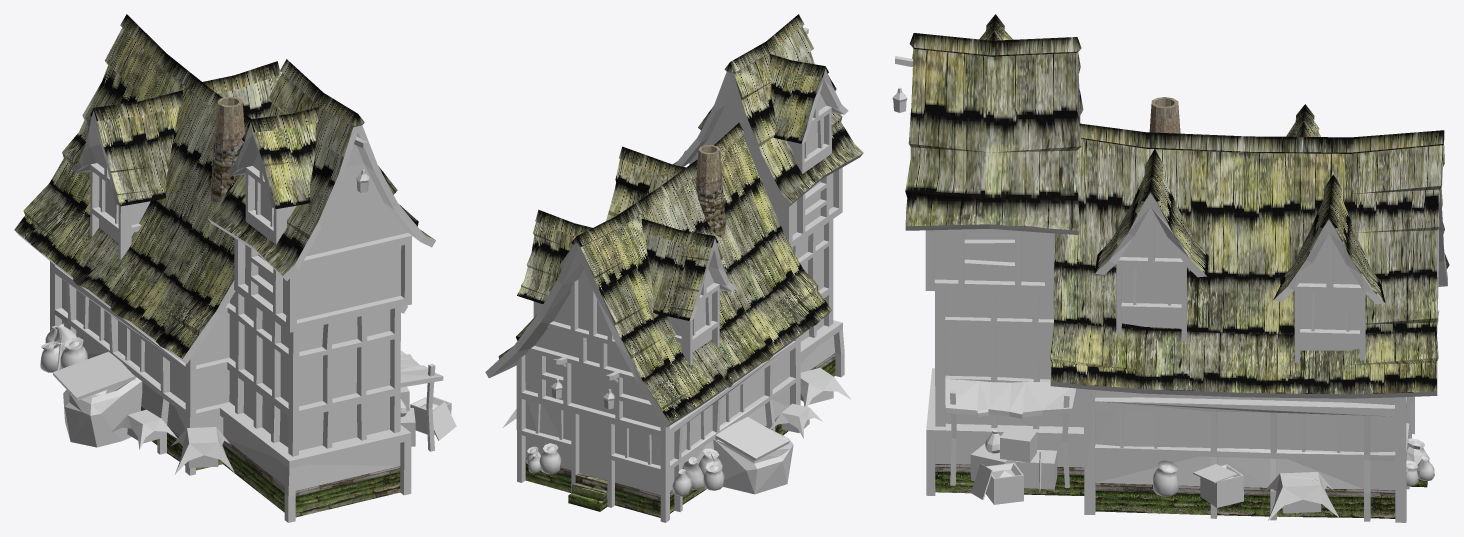
File: house5.dae
3 renders of one model, left to right at view 1: azimuth 30°, elevation 25°; view 2: azimuth 150°, elevation 25°; view 3: azimuth 270°, elevation 25°, orthographic. The views are drawn at different scales.
Parts seen in each view (by area): view 1: house, roof; view 2: house, roof; view 3: roof, house.
Part boxes in pixels (bbox=[...]): house: bbox=[14, 96, 456, 522]; roof: bbox=[14, 14, 434, 358]; house: bbox=[485, 27, 863, 522]; roof: bbox=[498, 14, 863, 423]; roof: bbox=[905, 14, 1449, 394]; house: bbox=[892, 52, 1447, 522].
Size of what is drawn, in the model's own units: 16.02 by 24.46 by 21.25.
